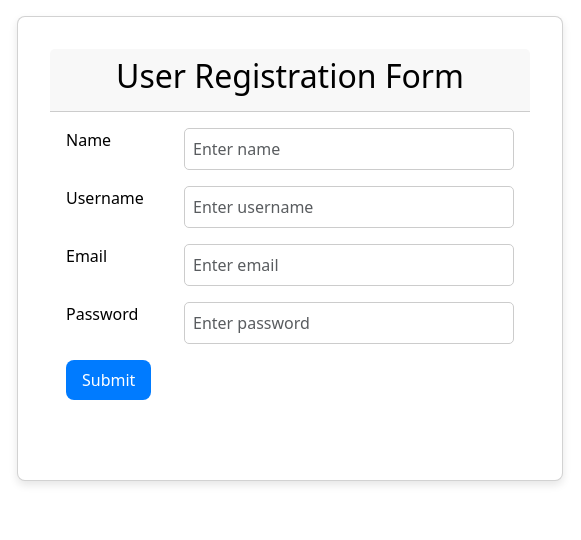
Test case: RegisterComponent › displays validation error when fields are empty
Click the button "Submit" at [109, 380], box [66, 360, 151, 400]
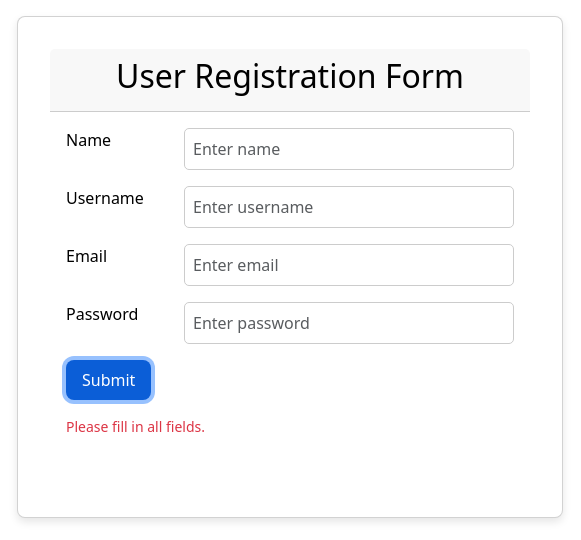
Expected: the text "Please fill in all fields." is shown, [66, 417, 205, 436]
